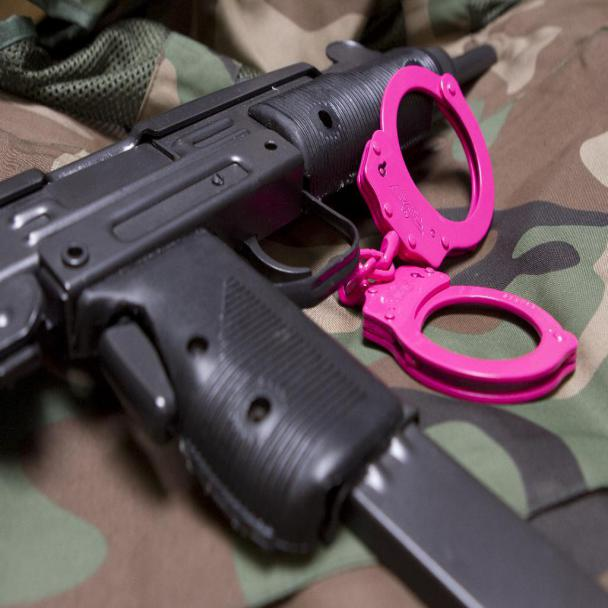Gun: (1, 42, 503, 607)
